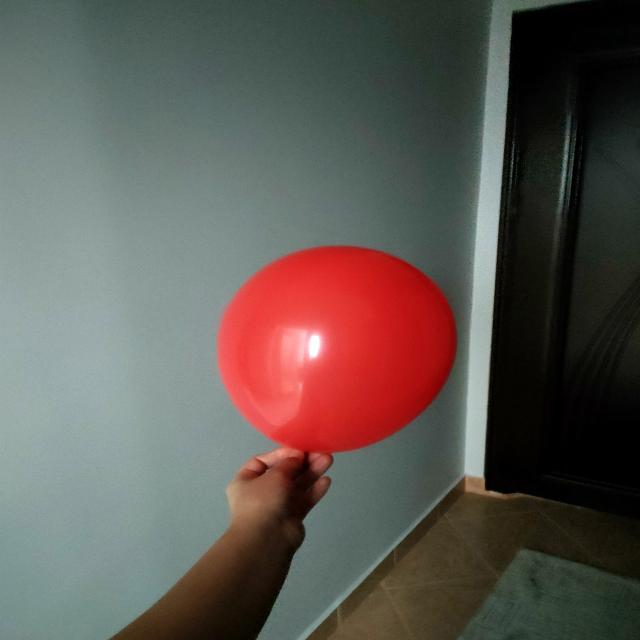red: (223, 247, 455, 454)
